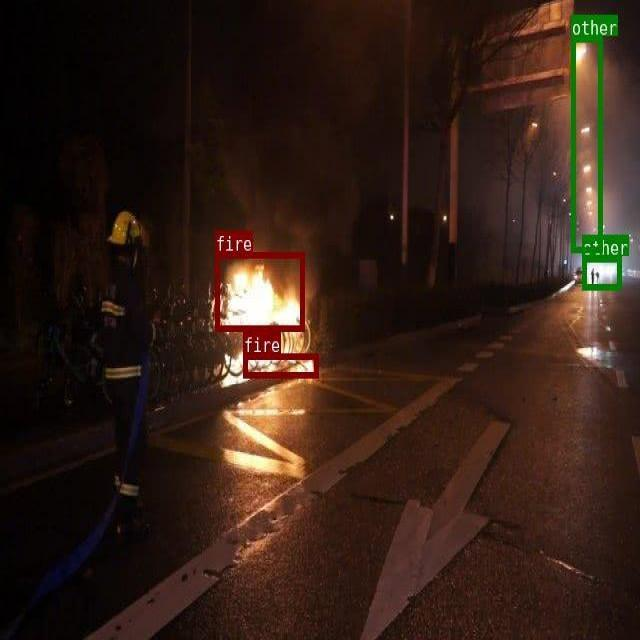fire: (214, 251, 304, 330), (243, 353, 318, 376)
